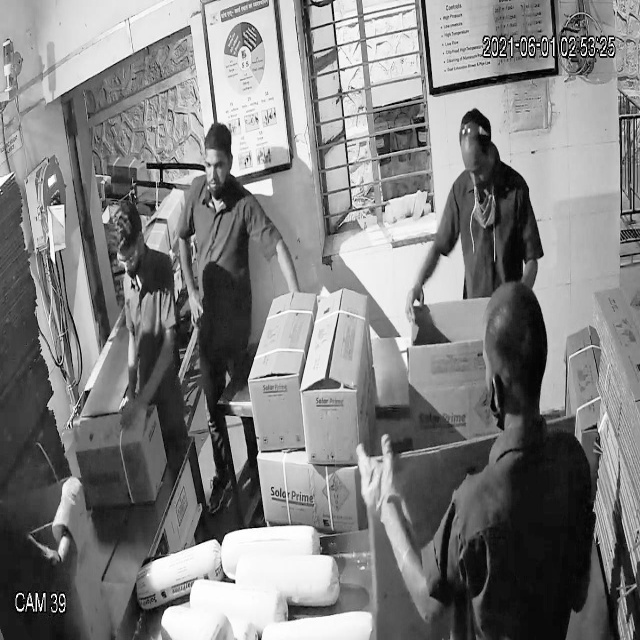Gafas: (113, 241, 145, 277)
Sin_gafas: (200, 148, 234, 182)
